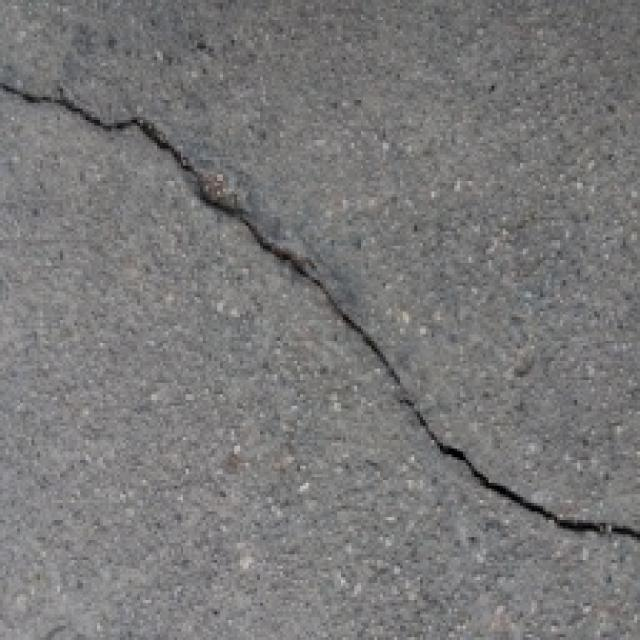SurfaceCrack: (0, 56, 640, 594)
